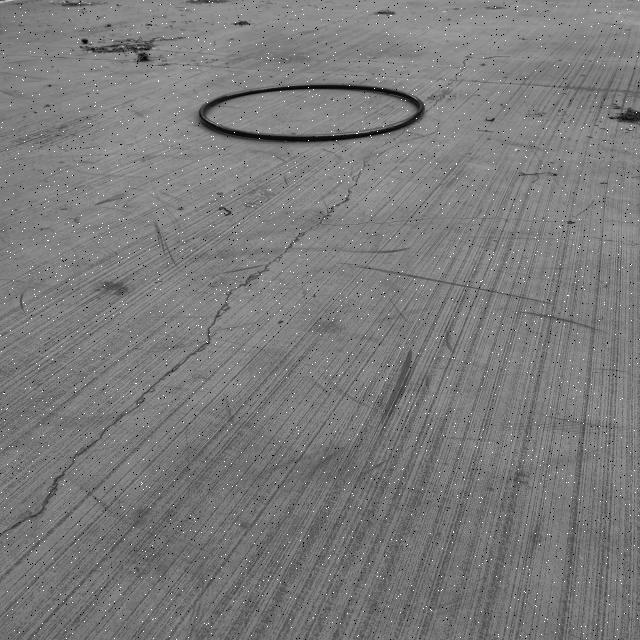Circle: (198, 82, 426, 142)
